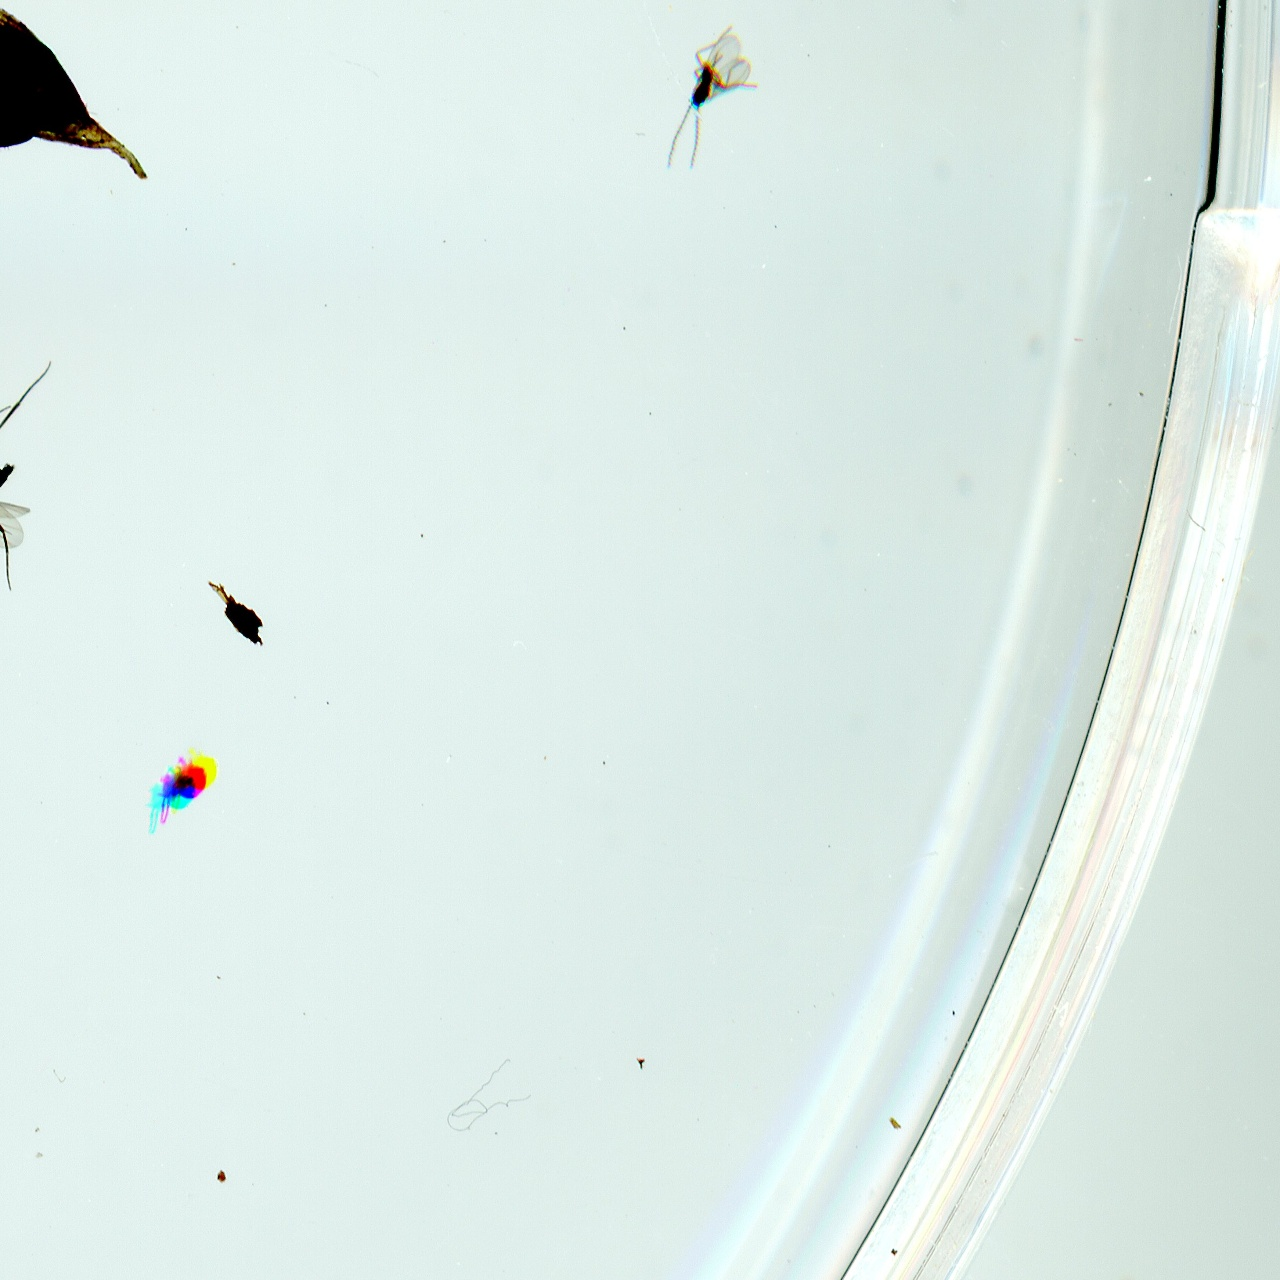arthropod: (662, 22, 762, 176), (0, 355, 56, 594)
